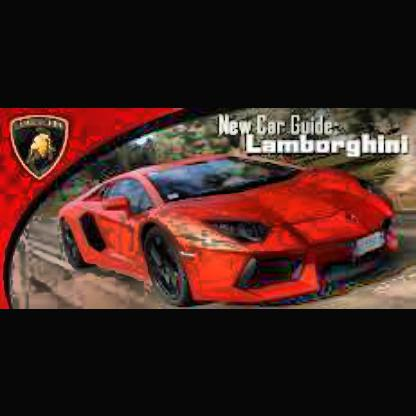Lamborghini Aventador Coupe 2012: (42, 131, 416, 309)
